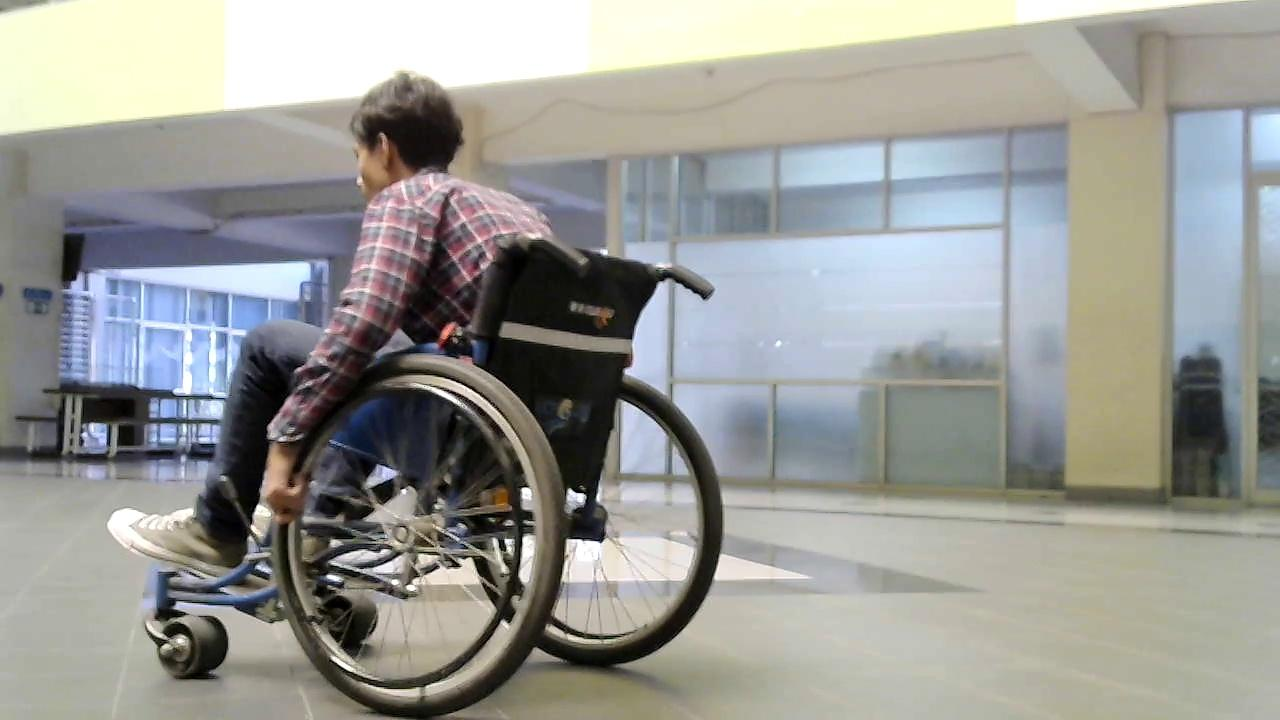person: (111, 69, 566, 594)
wheelchair: (127, 218, 744, 720)
